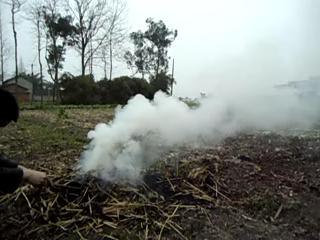yanwu: (77, 59, 296, 183)
